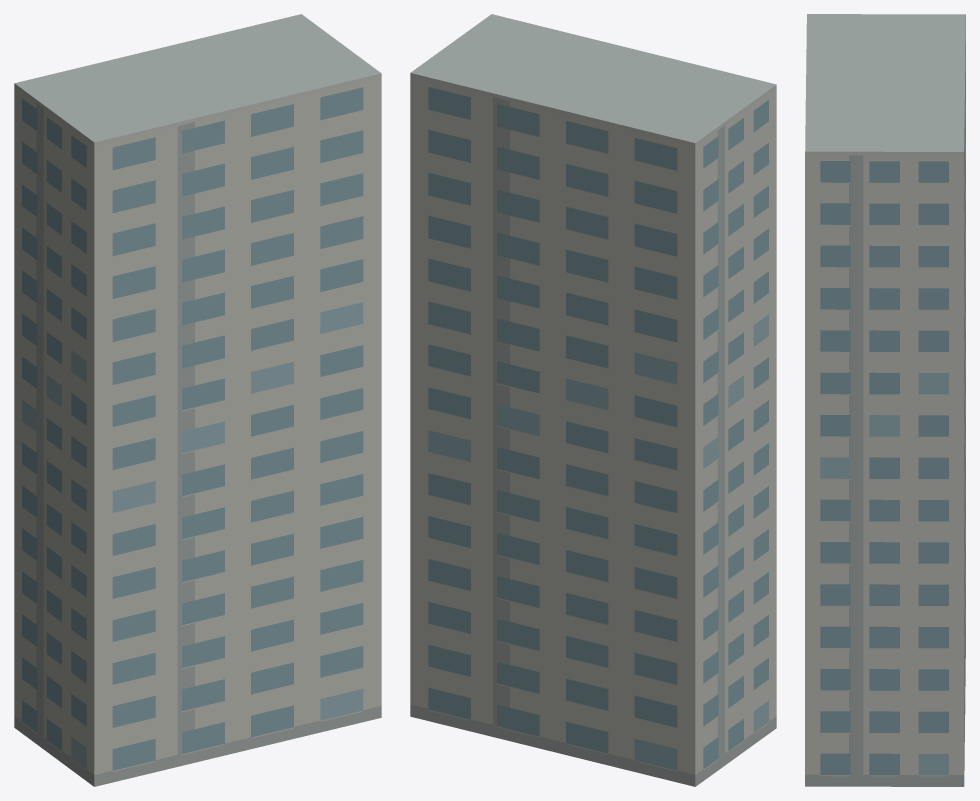
Rendered from residential-e20f9a62-50bc-4b7c-a2b7-9d905254c11a.glb.
3 renders of one model, left to right at view 1: azimuth 30°, elevation 25°; view 2: azimuth 150°, elevation 25°; view 3: azimuth 270°, elevation 25°, orthographic.
Visible parts, largest first — view 1: residential-e20f9a62-50bc-4b7c-a2b7-9d905254c11a.tmp; view 2: residential-e20f9a62-50bc-4b7c-a2b7-9d905254c11a.tmp; view 3: residential-e20f9a62-50bc-4b7c-a2b7-9d905254c11a.tmp.
Boxes of the visible parts, x1,y1,x2,y2 form: residential-e20f9a62-50bc-4b7c-a2b7-9d905254c11a.tmp: (14,14,381,786); residential-e20f9a62-50bc-4b7c-a2b7-9d905254c11a.tmp: (410,14,776,786); residential-e20f9a62-50bc-4b7c-a2b7-9d905254c11a.tmp: (805,14,965,786).
Size of the model in its own units: 20.06 by 43 by 9.88.
